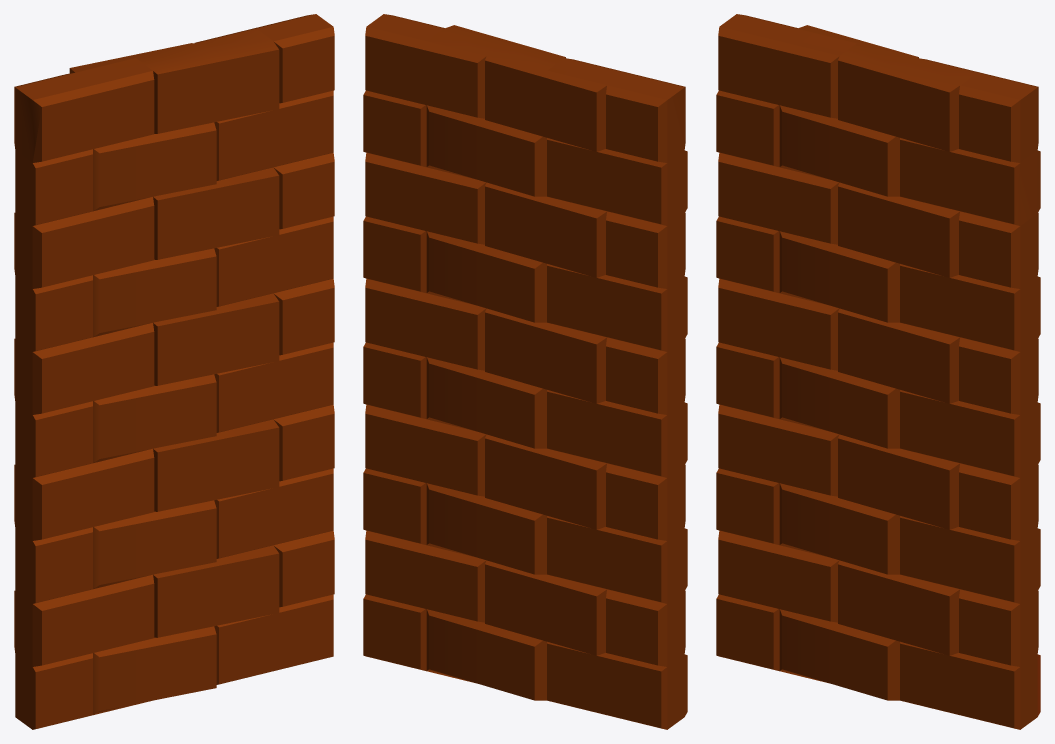
Rendered from Wall_Brick_Red.glb.
The picture shows the model from 3 angles, left to right: view 1: azimuth 30°, elevation 25°; view 2: azimuth 150°, elevation 25°; view 3: azimuth 330°, elevation 25°; orthographic projection.
Visible parts, largest first — view 1: wall_brick_red_geo; view 2: wall_brick_red_geo; view 3: wall_brick_red_geo.
Boxes of the visible parts, box(x1,y1,x2,y2) form: wall_brick_red_geo: box(14, 14, 334, 729); wall_brick_red_geo: box(363, 14, 687, 729); wall_brick_red_geo: box(716, 14, 1040, 729).
Size of what is drawn, in the model's own units: 2.5 by 5 by 0.482.
Materials: 1 (1 with a texture image).
